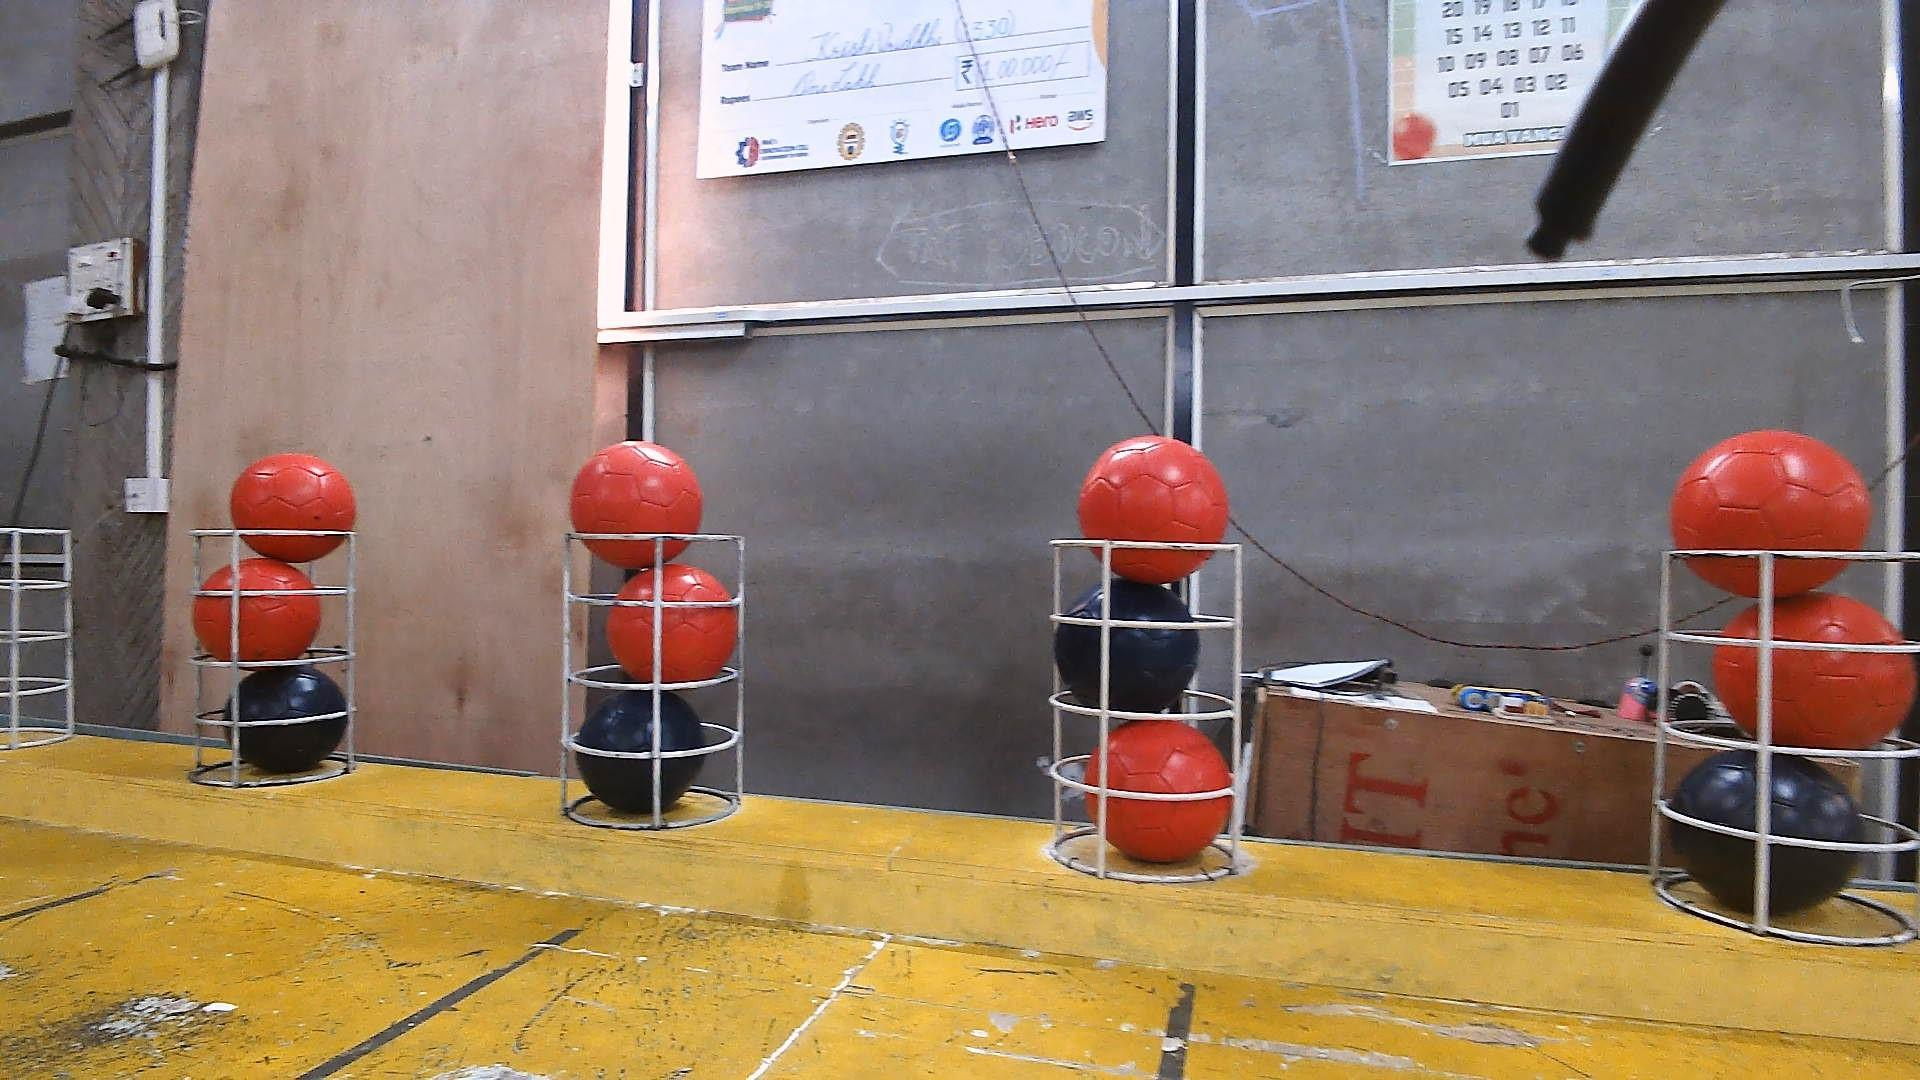dhoka: (1665, 750, 1863, 919), (1054, 578, 1200, 712), (574, 690, 705, 814), (222, 663, 348, 777)
laale: (1668, 431, 1871, 600), (1714, 592, 1920, 754), (1076, 435, 1230, 585), (1084, 720, 1234, 862), (570, 443, 702, 570), (608, 563, 738, 683), (191, 555, 323, 663), (228, 454, 356, 563)
